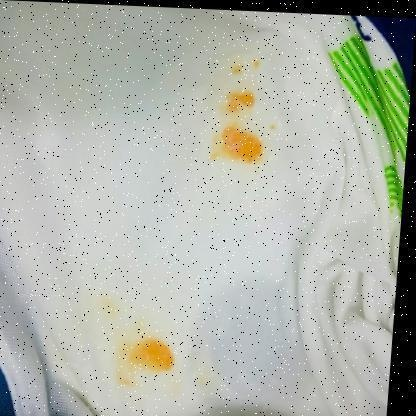kimchi: (112, 341, 174, 389), (209, 123, 266, 170), (100, 295, 141, 331), (217, 87, 262, 117), (225, 57, 266, 77), (269, 121, 280, 134)
